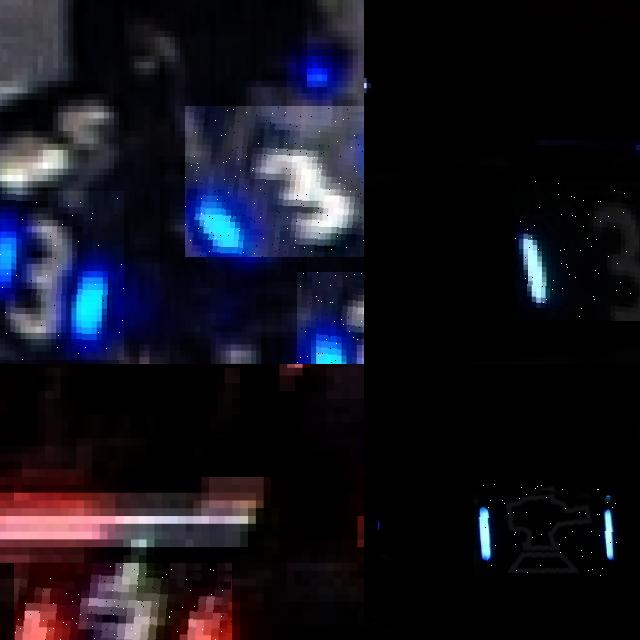B3: (185, 106, 364, 256), (0, 190, 124, 360), (515, 181, 640, 320), (296, 272, 364, 364)
Bs: (474, 484, 618, 578)
R3: (13, 562, 232, 640)
